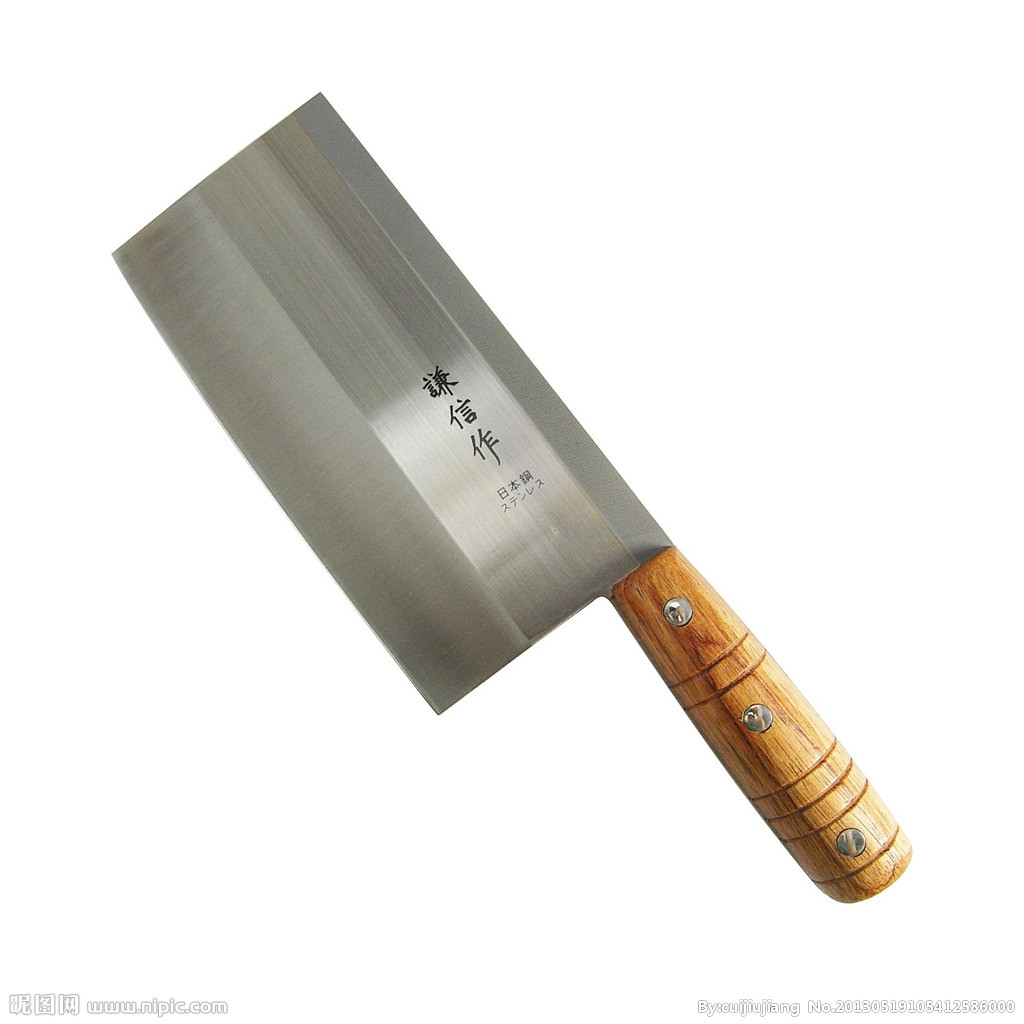knief: (125, 126, 950, 923)
